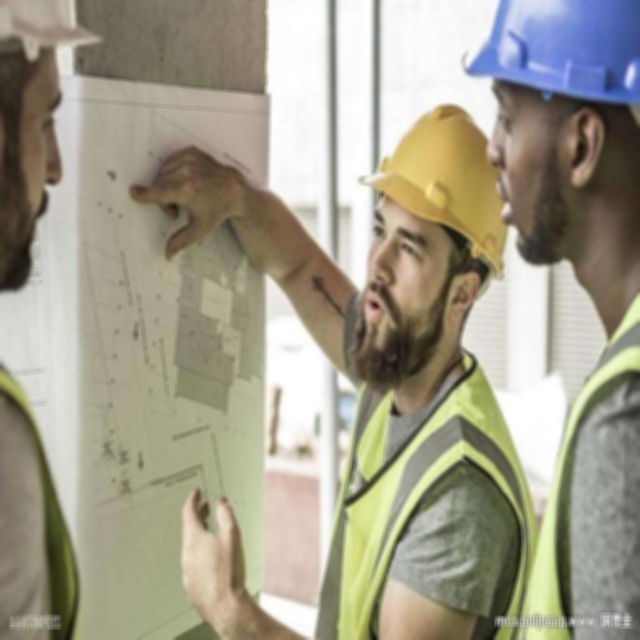Con_Casco: (341, 106, 487, 356)
